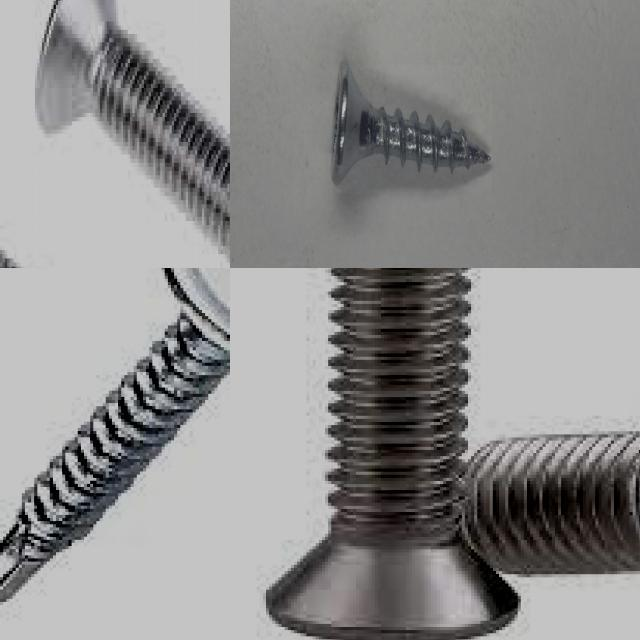Screw: (263, 268, 521, 640), (0, 268, 230, 606), (33, 0, 230, 267), (456, 431, 640, 577), (331, 59, 490, 184)
